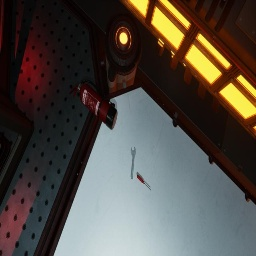FireExtinguisher ]: (69, 79, 118, 130)
